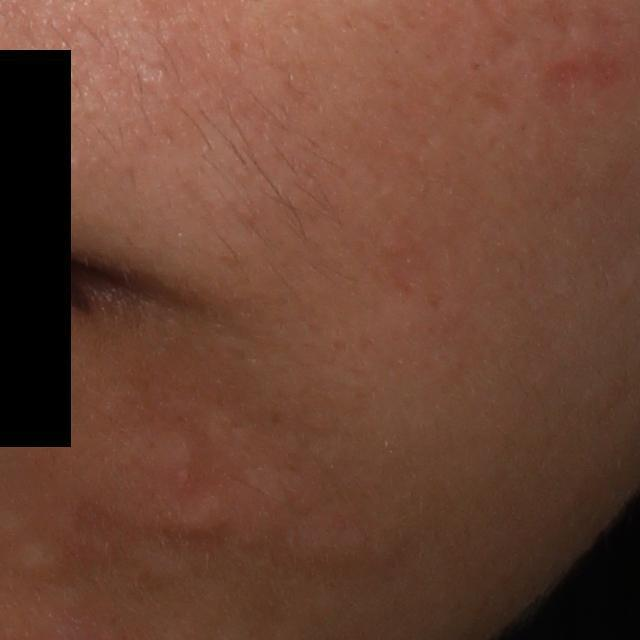hypertrophic_scar: (97, 493, 236, 540), (101, 423, 197, 489), (10, 538, 68, 581)
